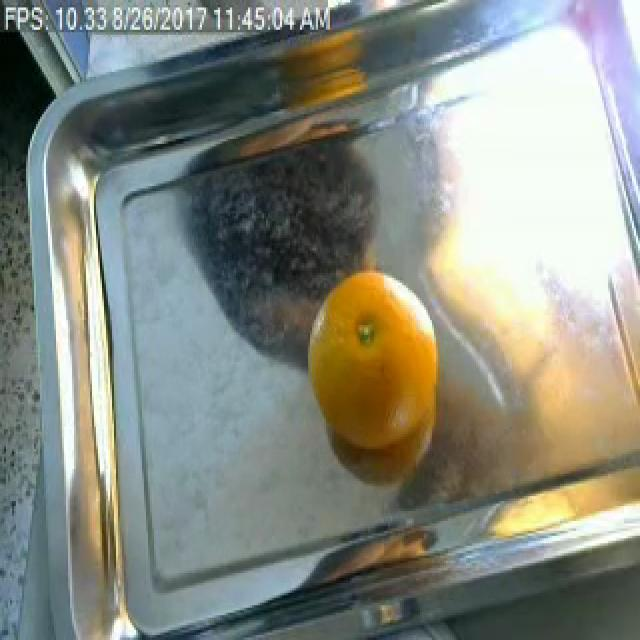Fruit: (294, 256, 460, 494)
